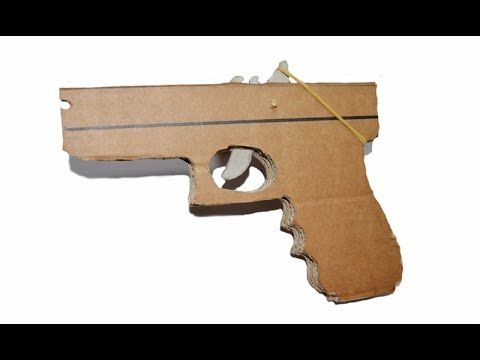Arma Falsa: (57, 60, 405, 302)
